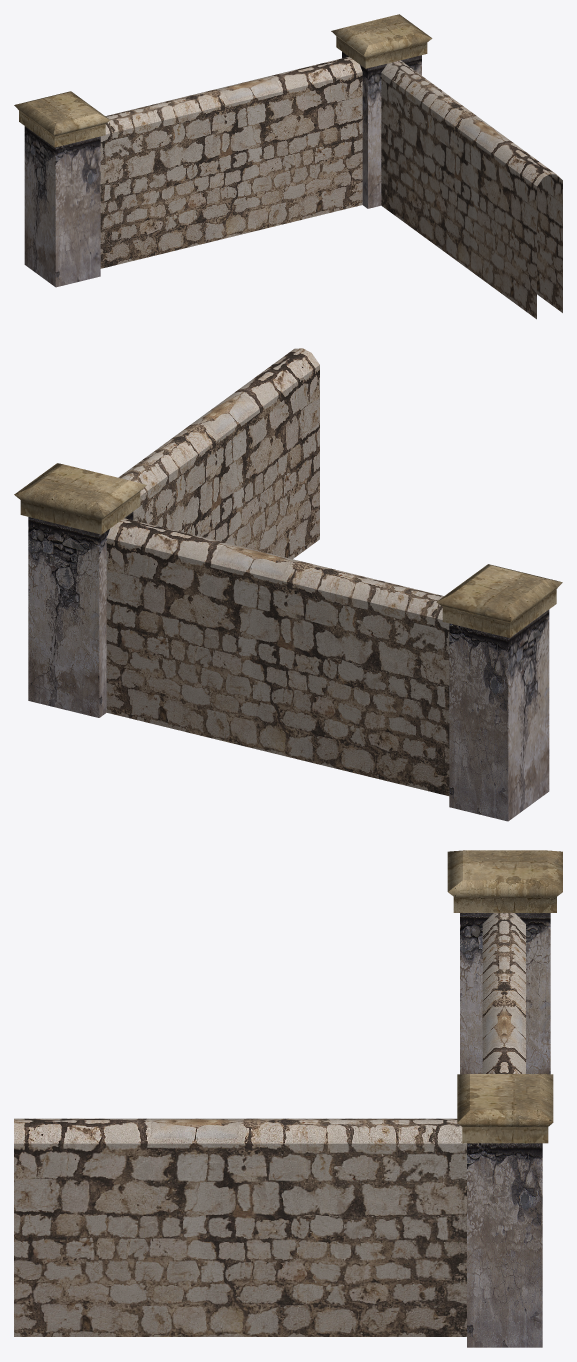
Rendered from Wall_Left_01_ALT.fbx.
3 views of the same model, one above another, from view 1: azimuth 30°, elevation 25°; view 2: azimuth 150°, elevation 25°; view 3: azimuth 270°, elevation 25° (orthographic). The views are drawn at different scales.
Parts seen in each view (by area): view 1: wall_left_01; view 2: wall_left_01; view 3: wall_left_01.
Part boxes in pixels (x1,y1,x2,y2): wall_left_01: [14, 14, 562, 319]; wall_left_01: [14, 348, 562, 821]; wall_left_01: [14, 850, 562, 1347].
Bounding box in the file's own units: 8.5 × 3.45 × 7.27.
